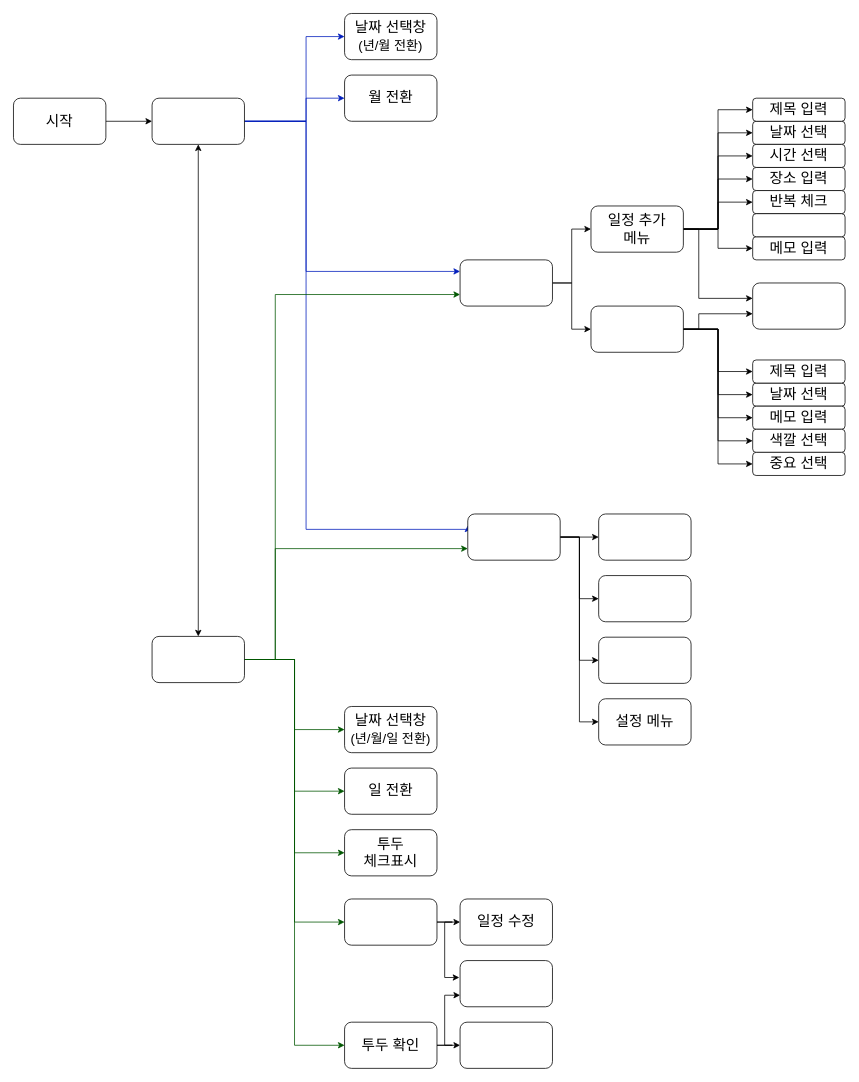
The diagram is 859 pixels wide and 1082 high, and some of its shapes have lost their labels. The shapes that lost their labels are listed below. From the top down, each one's box as (x1, y1, x2, y2) in pixels, then its label:
(151, 97, 244, 144): 캘린더 페이지
(752, 213, 845, 237): 알림 체크
(459, 259, 552, 306): 일정 추가 팝업
(752, 282, 845, 329): 양식 불러오기
(590, 305, 683, 352): 투두 추가 메뉴
(467, 513, 560, 560): 네비게이션 메뉴
(151, 636, 244, 683): 일별 페이지
(344, 898, 437, 945): 일정 확인
(459, 960, 552, 1007): 양식 저장
(459, 1021, 552, 1068): 투두 수정
